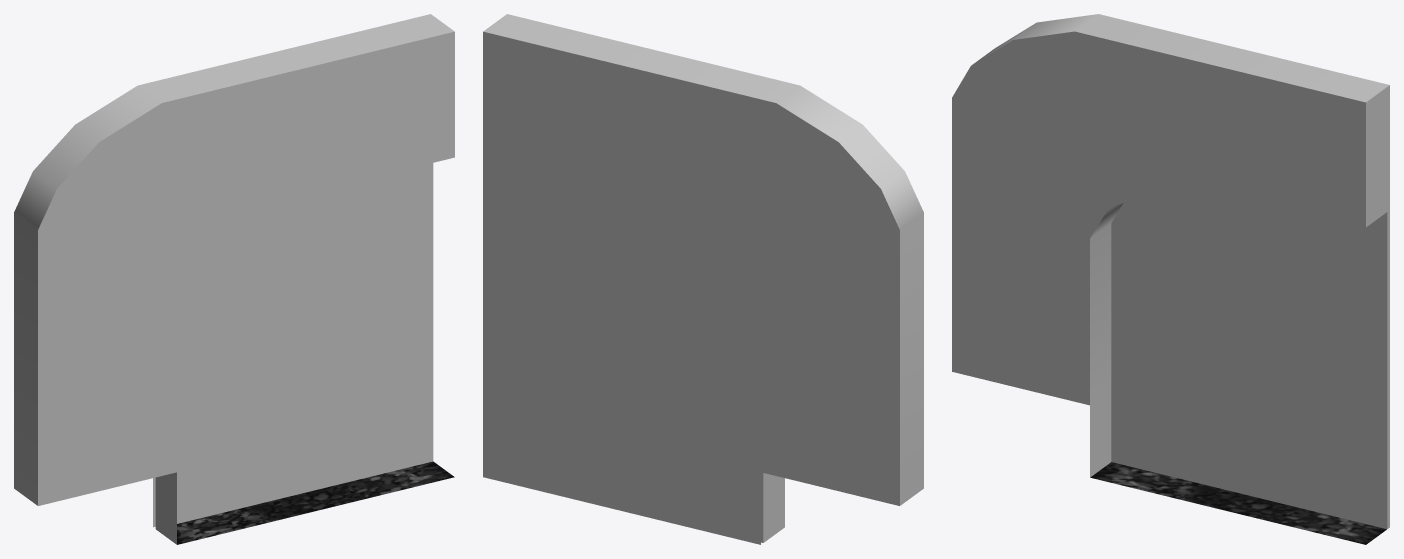
File: tunnel 1.fbx
The picture shows the model from 3 angles, left to right: view 1: azimuth 30°, elevation 25°; view 2: azimuth 150°, elevation 25°; view 3: azimuth 330°, elevation 25°; orthographic projection.
Parts seen in each view (by area): view 1: tunnel; view 2: tunnel; view 3: tunnel.
Part boxes in pixels (x1=…): tunnel: x1=14, y1=14, x2=454, y2=544; tunnel: x1=483, y1=14, x2=923, y2=544; tunnel: x1=952, y1=14, x2=1389, y2=544.
Size of the model in its own units: 3 by 3.06 by 0.3.
